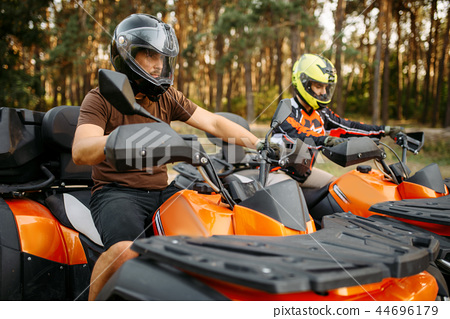helmet: (108, 15, 185, 95), (291, 54, 343, 104)
